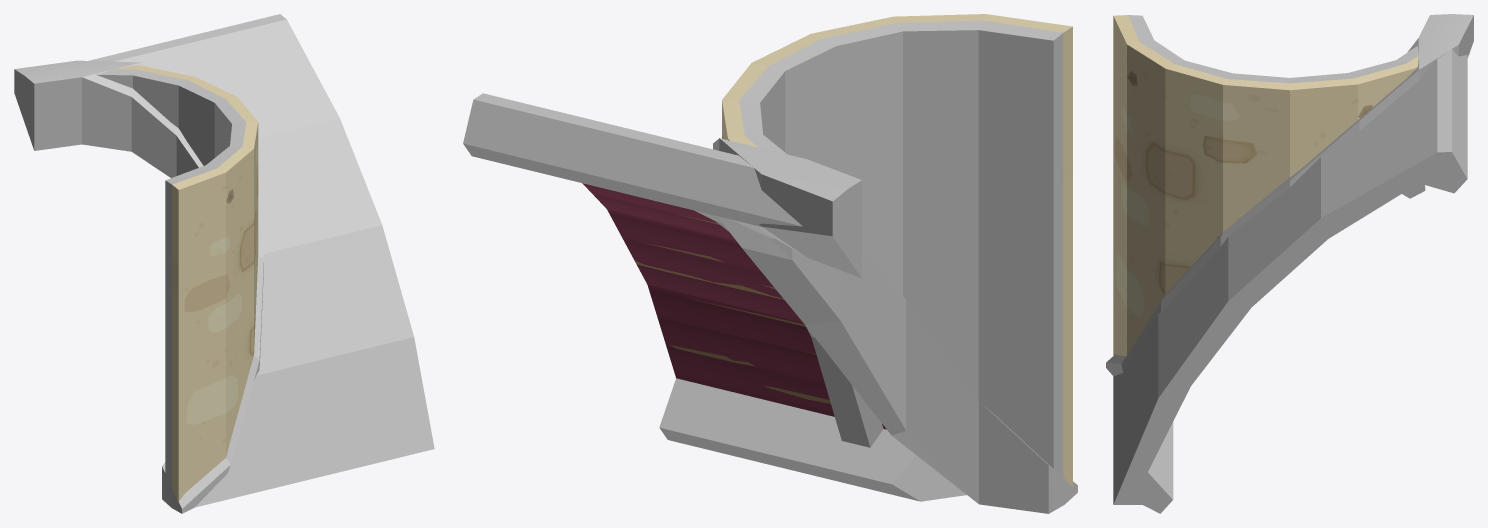
File: SM_Bld_Roof_Convex_Tower_01.fbx
The picture shows the model from 3 angles, left to right: view 1: azimuth 30°, elevation 25°; view 2: azimuth 150°, elevation 25°; view 3: azimuth 270°, elevation 25°; orthographic projection. The views are drawn at different scales.
Parts seen in each view (by area): view 1: SM_Bld_Roof_Convex_Tower_01; view 2: SM_Bld_Roof_Convex_Tower_01; view 3: SM_Bld_Roof_Convex_Tower_01.
Part boxes in pixels (box(x1,y1,x2,y2)): SM_Bld_Roof_Convex_Tower_01: box(14, 14, 434, 513); SM_Bld_Roof_Convex_Tower_01: box(463, 14, 1077, 513); SM_Bld_Roof_Convex_Tower_01: box(1106, 14, 1473, 513).
Bounding box in the file's own units: 251 × 309 × 284.
